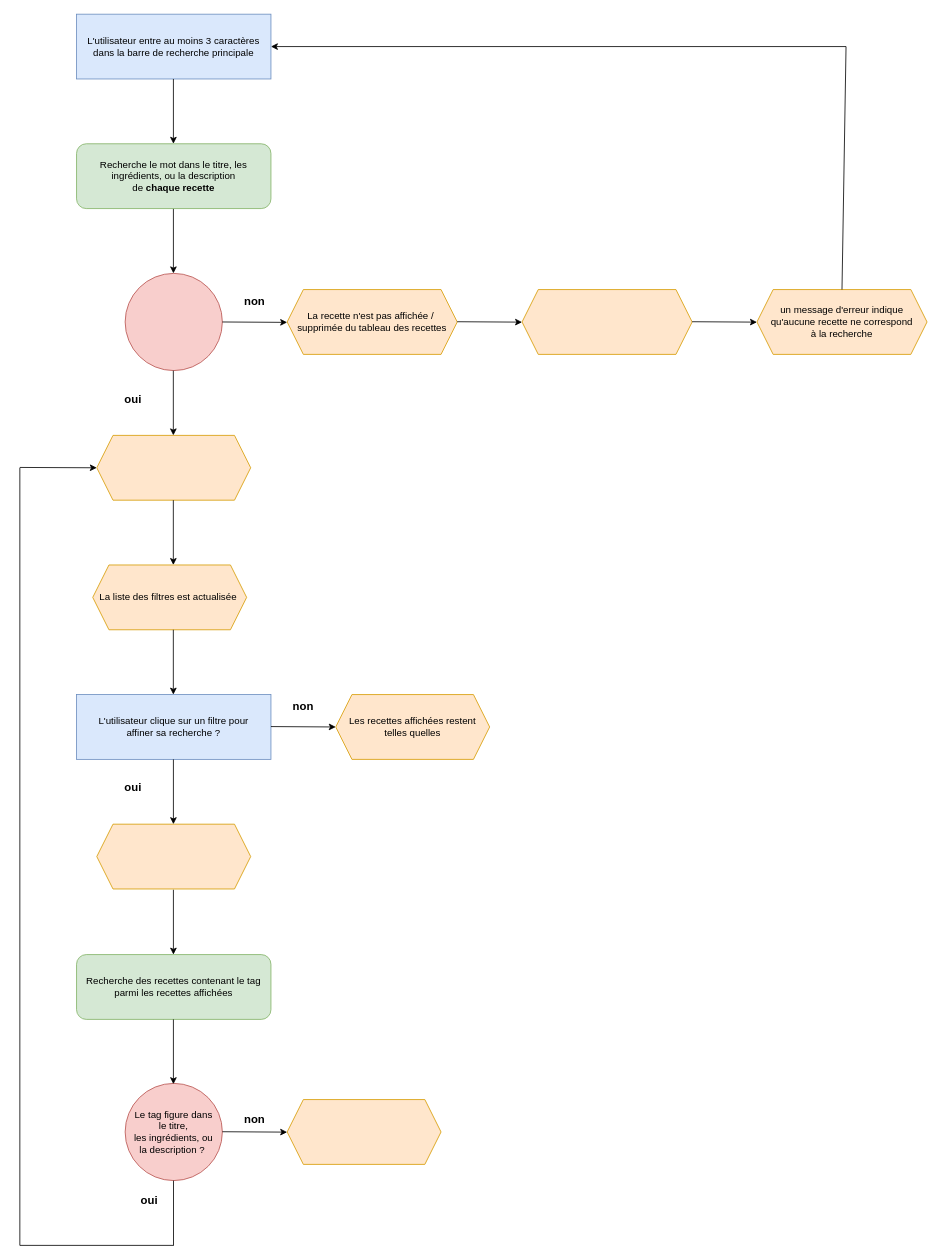
The diagram is 941 pixels wide and 1260 high, and some of its shapes have lost their labels. Each missing label, with the centre of its shape:
La liste des filtres est vidée: the point at 606,321
La recette est affichée / ajoutée au tableau des recettes: the point at 173,467
La recette est supprimée du tableau des recettes: the point at 363,1131
Le filtre est affiché sous forme de tag / ajouté au tableau des filtres: the point at 173,856
Le mot figure dans le titre, les ingrédients ou la description ?: the point at 173,322
